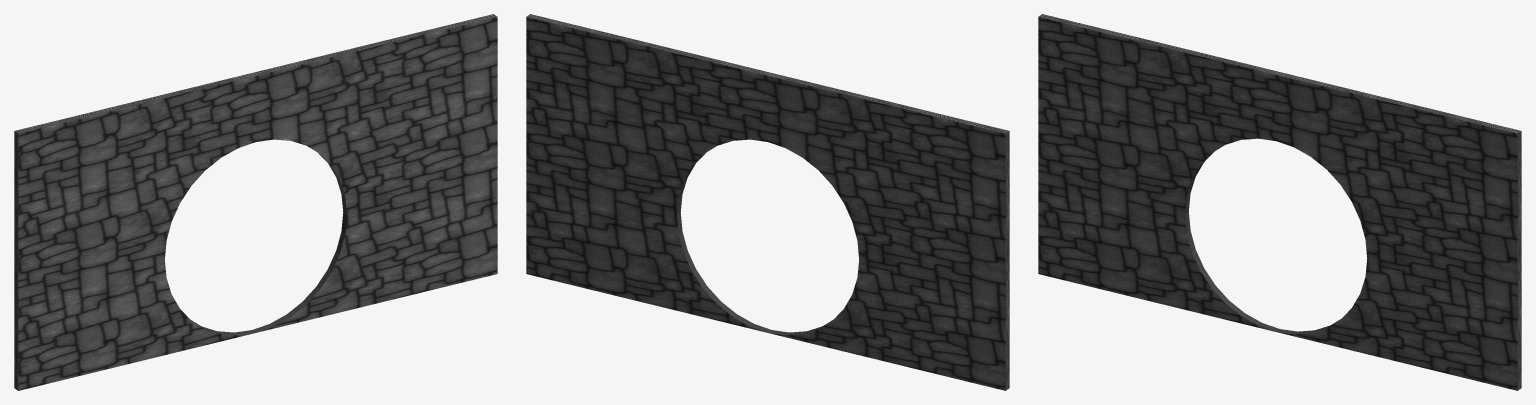
Rendered from Murrond.fbx.
3 views of the same model, side by side, from view 1: azimuth 30°, elevation 25°; view 2: azimuth 150°, elevation 25°; view 3: azimuth 330°, elevation 25° (orthographic).
Visible parts, largest first — view 1: Cube.001; view 2: Cube.001; view 3: Cube.001.
Boxes of the visible parts, box(x1,y1,x2,y2) form: Cube.001: box(14, 14, 497, 390); Cube.001: box(526, 14, 1009, 390); Cube.001: box(1038, 14, 1521, 390).
Size of the model in its own units: 4993 by 2560 by 70.88.
